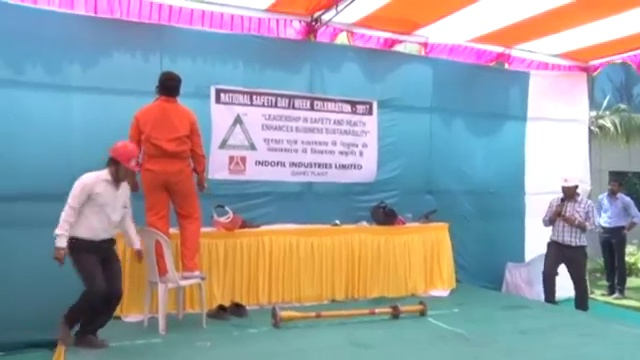helmet: (108, 138, 141, 175), (558, 175, 580, 189)
helmet_off: (154, 70, 182, 102), (606, 179, 621, 198)
helmet_on: (105, 138, 141, 192), (556, 174, 582, 202)
person: (53, 137, 146, 349), (131, 70, 210, 278), (541, 173, 599, 312), (598, 178, 639, 303)
